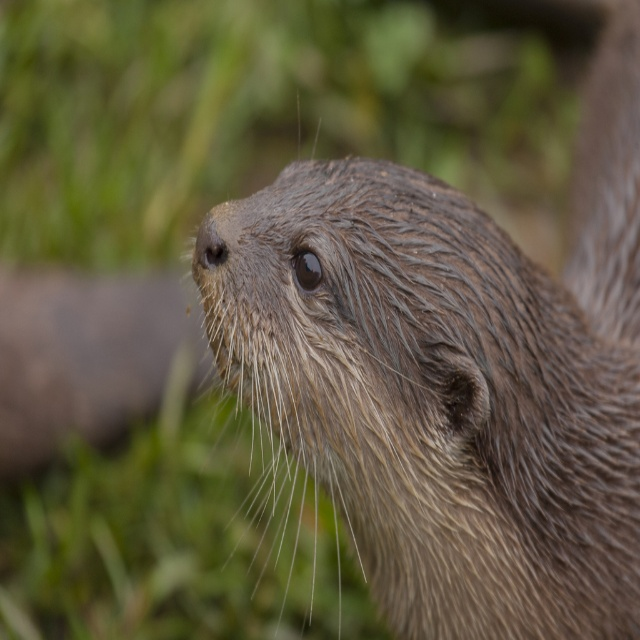Otter: (178, 0, 640, 640)
